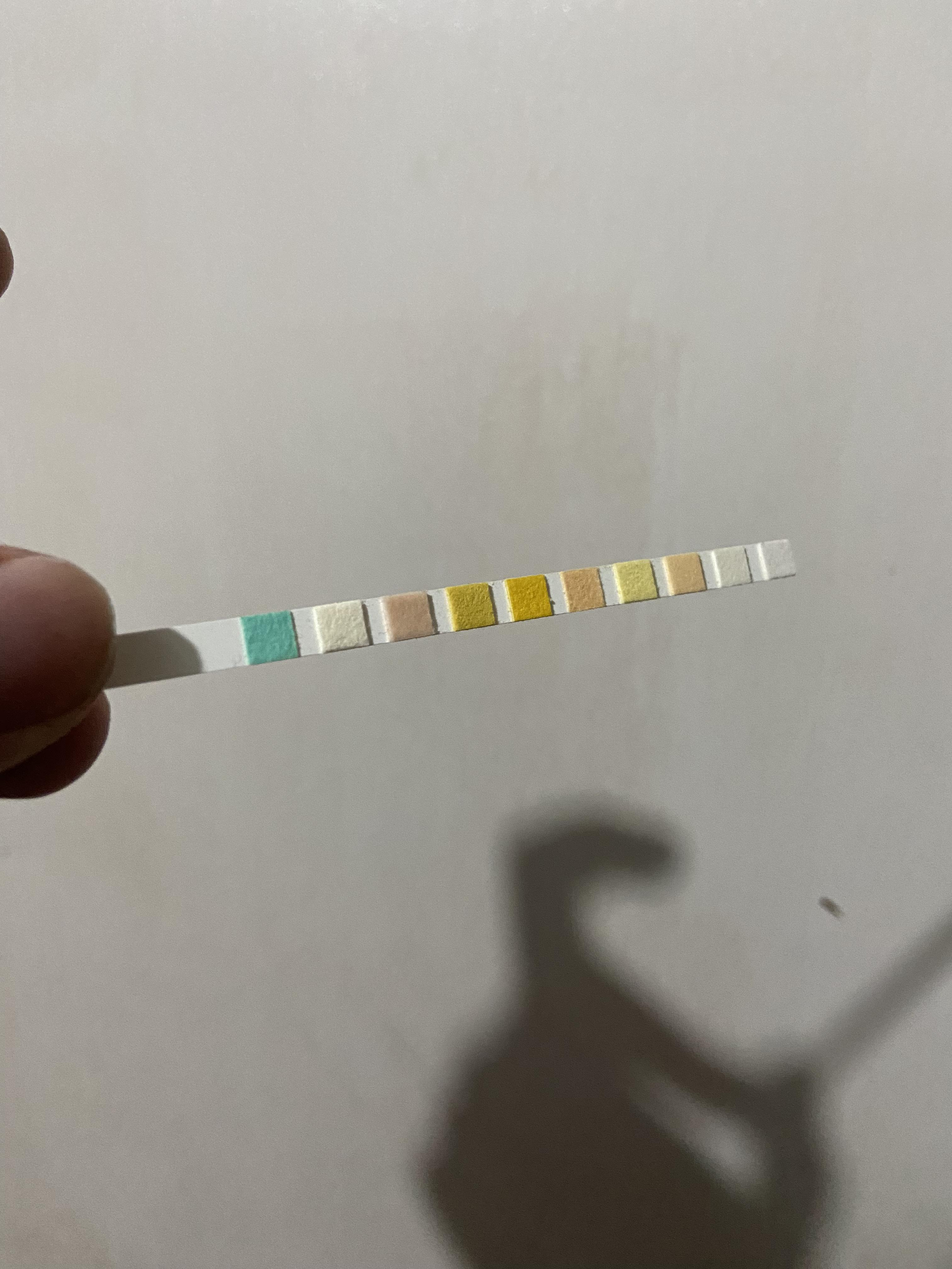Bilirubin: (321, 607, 362, 647)
Blood: (513, 580, 546, 617)
Glucose: (250, 617, 292, 658)
Ketone: (389, 597, 428, 635)
Leukocytes: (764, 544, 791, 576)
Nitrite: (720, 550, 745, 584)
Protein: (622, 562, 651, 599)
SpGravity: (455, 589, 489, 626)
Urobilinogen: (671, 556, 700, 592)
pH: (568, 571, 599, 608)
strip: (122, 539, 797, 685)
